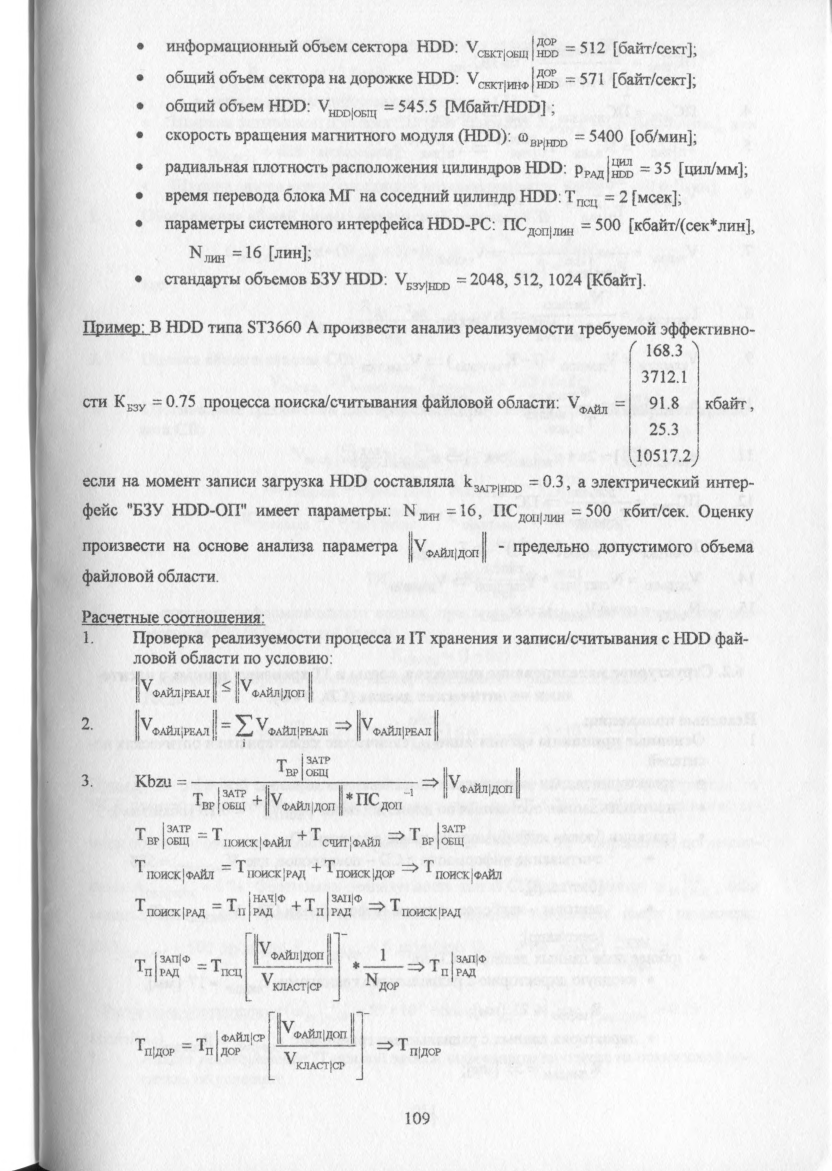K.бзу: (134, 773, 172, 788)
N.дор: (363, 971, 400, 993)
T.вр.затр.общ: (135, 821, 193, 849), (271, 753, 331, 780), (193, 784, 247, 813)
T.п.дор: (133, 1032, 178, 1061)
T.п.зап.ф.рад: (135, 947, 192, 983), (302, 891, 366, 917)
T.п.нач.ф.рад: (225, 891, 287, 919)
T.п.файл.ср.дор: (196, 1027, 265, 1063)
T.поиск.дор: (322, 858, 396, 883)
T.поиск.рад: (231, 857, 309, 880), (132, 897, 207, 920)
T.поиск.файл: (209, 824, 293, 850), (133, 857, 214, 881)
T.псц: (209, 953, 242, 985)
T.счит.файл: (306, 826, 380, 850)
V.класт.ср: (258, 970, 323, 994), (283, 1049, 348, 1072)
V.файл.доп: (271, 786, 334, 814), (259, 936, 322, 963), (281, 1017, 348, 1041)
group: (131, 932, 406, 1003), (130, 753, 419, 816), (130, 1009, 374, 1082), (131, 890, 369, 921), (130, 856, 400, 883), (132, 824, 383, 851)
ПС.доп: (357, 786, 403, 813)
